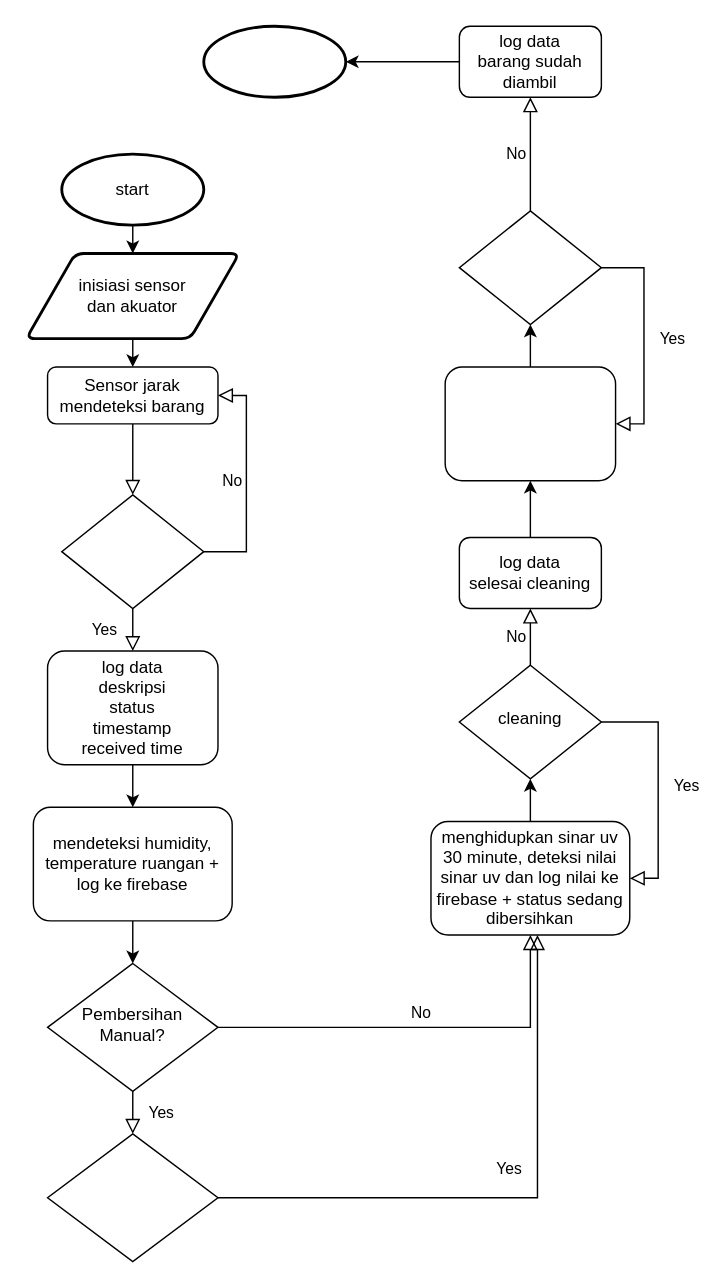
Some shapes in this 723 by 1287 pixel diagram are drawn without their labels. Each missing label, with the centre of its shape:
Ada barang?: pixel 529 266
Ada?: pixel 132 550
selsesai: pixel 274 61
sensor mendeteksi pintu terbuka dan sensor mendeteksi barang: pixel 530 423
Tombol bersihkan ditekan: pixel 132 1197
